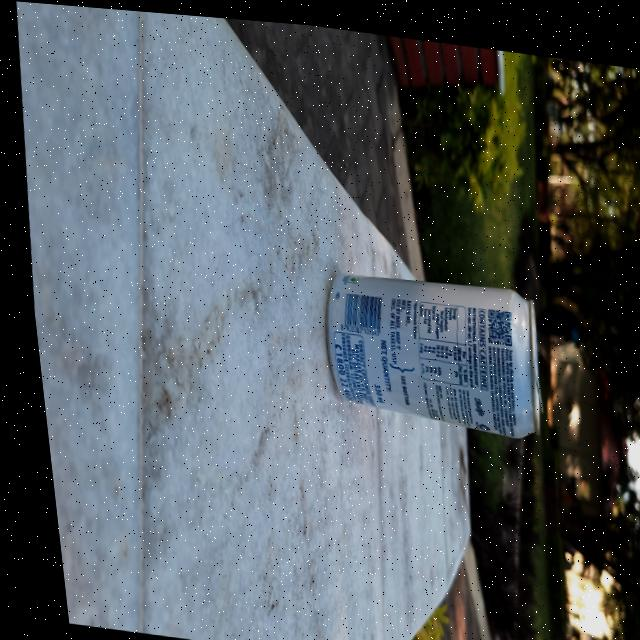Pepsi Retro: (303, 254, 553, 437)
